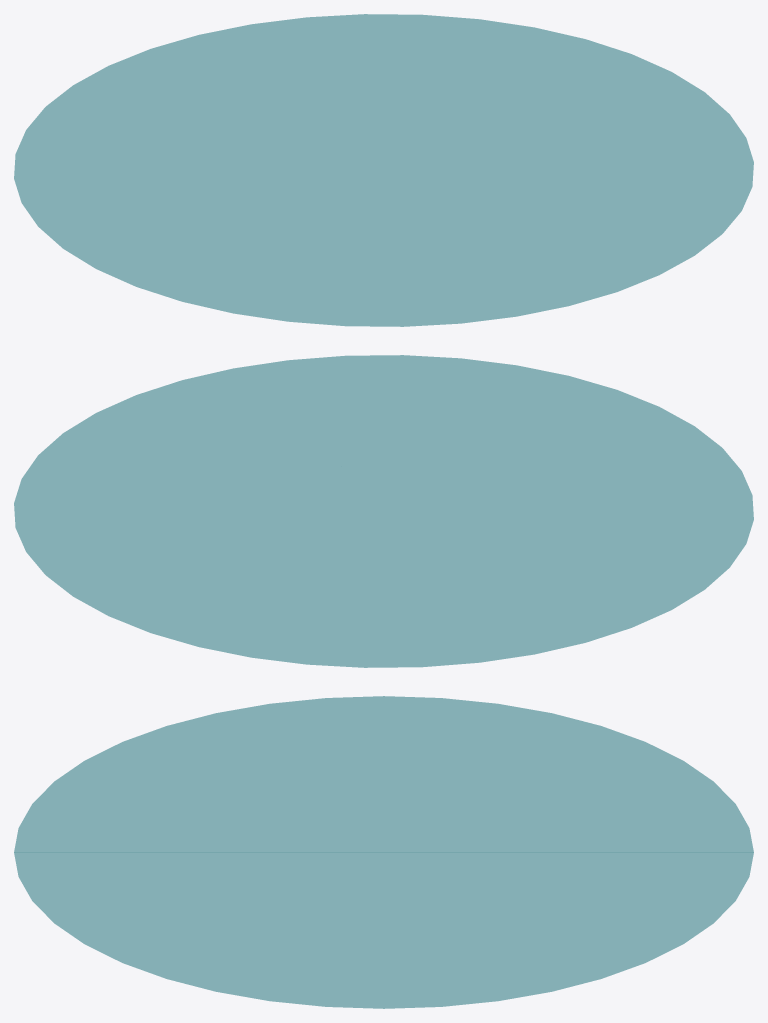
Rendered from water-disc.glb.
3 views of the same model, one above another, from view 1: azimuth 30°, elevation 25°; view 2: azimuth 150°, elevation 25°; view 3: azimuth 270°, elevation 25° (orthographic).
Visible parts, largest first — view 1: water-disc; view 2: water-disc; view 3: water-disc.
Part boxes in pixels (bbox=[...]): water-disc: bbox=[14, 14, 753, 326]; water-disc: bbox=[14, 355, 753, 667]; water-disc: bbox=[14, 696, 753, 1008].
Size of the model in its own units: 3.56 by 0 by 3.56.
